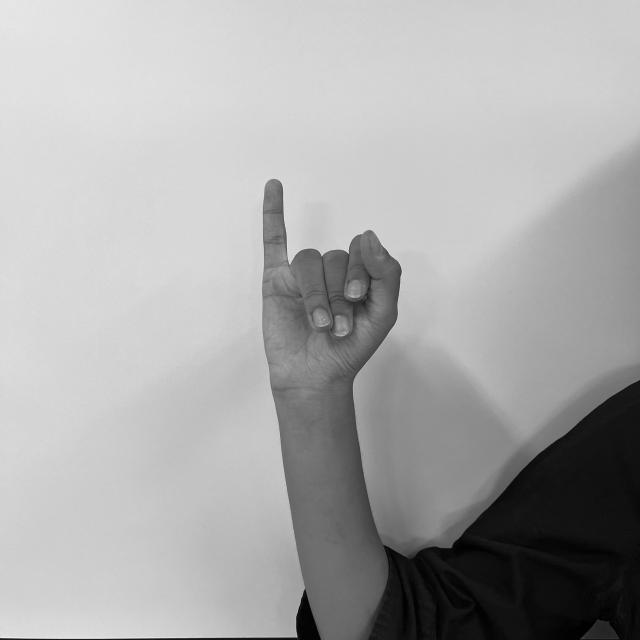Letra I: (252, 170, 407, 388)
